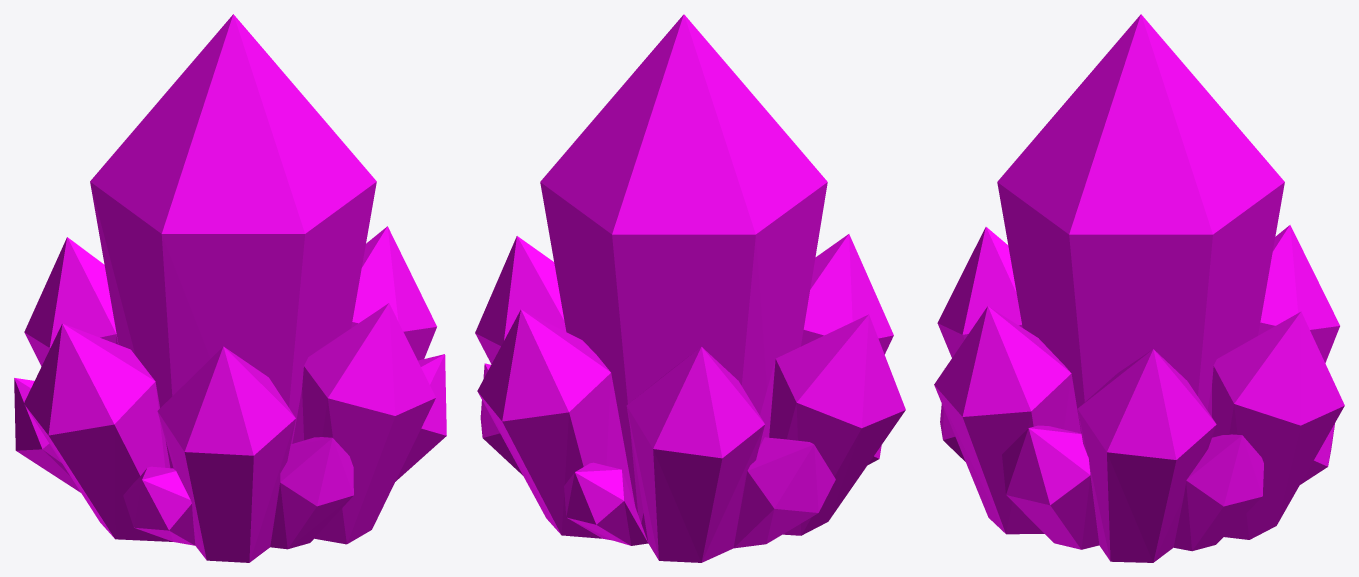
The model's file is crystal_pink.obj.
The picture shows the model from 3 angles, left to right: view 1: azimuth 30°, elevation 25°; view 2: azimuth 150°, elevation 25°; view 3: azimuth 270°, elevation 25°; orthographic projection.
Visible parts, largest first — view 1: Crystal_Cube; view 2: Crystal_Cube; view 3: Crystal_Cube.
Part boxes in pixels (left/top/right/bottom): Crystal_Cube: left=14, top=14, right=446, bottom=562; Crystal_Cube: left=475, top=14, right=905, bottom=562; Crystal_Cube: left=934, top=14, right=1344, bottom=562.
Bounding box in the file's own units: 0.8345 × 0.9795 × 0.7515.
